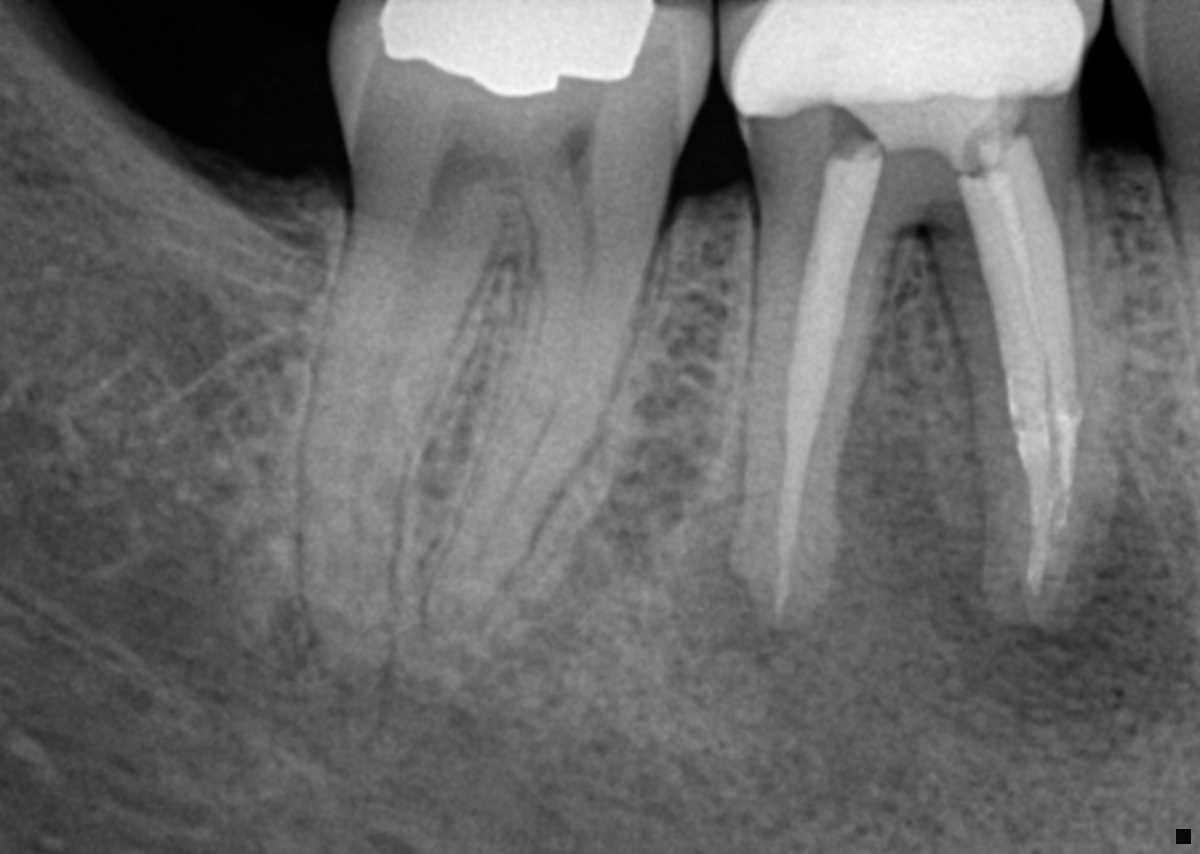Apical Lesion: (661, 358, 941, 754), (904, 480, 1200, 743)
Distal Root: (300, 213, 484, 687), (727, 185, 914, 634)
Main Root: (1156, 150, 1200, 338)
Mesial Canal: (352, 242, 445, 561), (458, 410, 558, 592)
Mesial Root: (419, 233, 662, 638), (917, 171, 1106, 629)
Root Canal Filling: (775, 141, 885, 626), (963, 140, 1078, 599)
